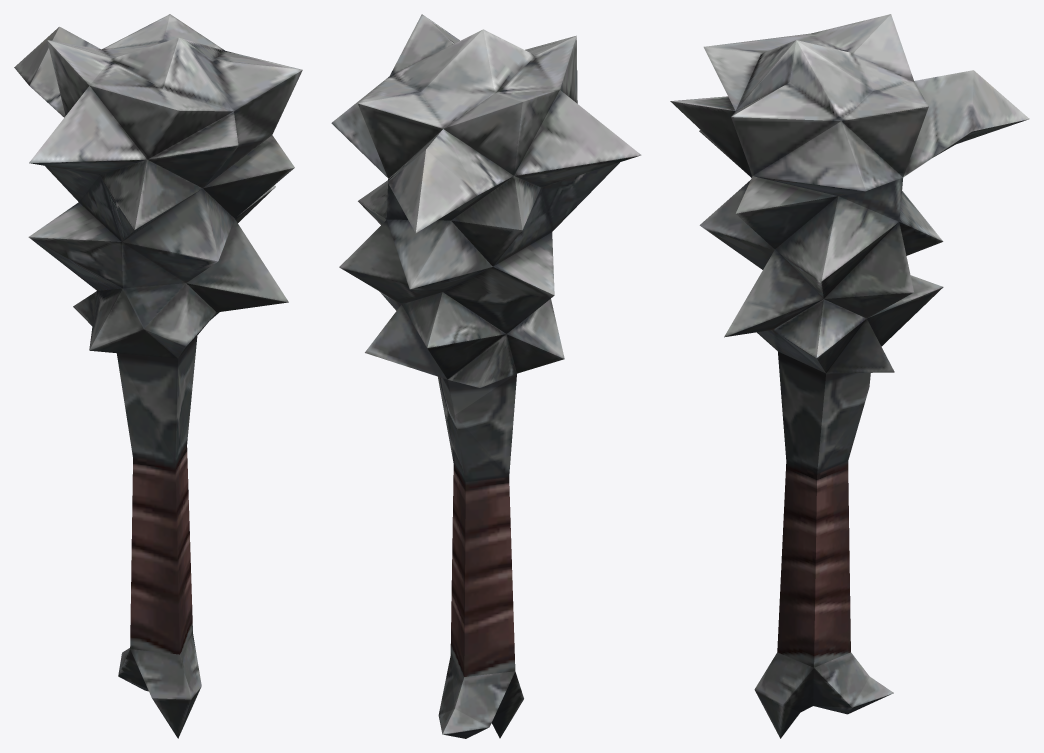
Rendered from maces03.fbx.
The picture shows the model from 3 angles, left to right: view 1: azimuth 30°, elevation 25°; view 2: azimuth 150°, elevation 25°; view 3: azimuth 270°, elevation 25°; orthographic projection. The views are drawn at different scales.
Visible parts, largest first — view 1: maces03; view 2: maces03; view 3: maces03.
Part boxes in pixels (x1,y1,x2,y2): maces03: [14, 14, 302, 738]; maces03: [331, 14, 641, 738]; maces03: [670, 14, 1029, 738].
Size of the model in its own units: 0.6907 by 1.72 by 0.7993.
